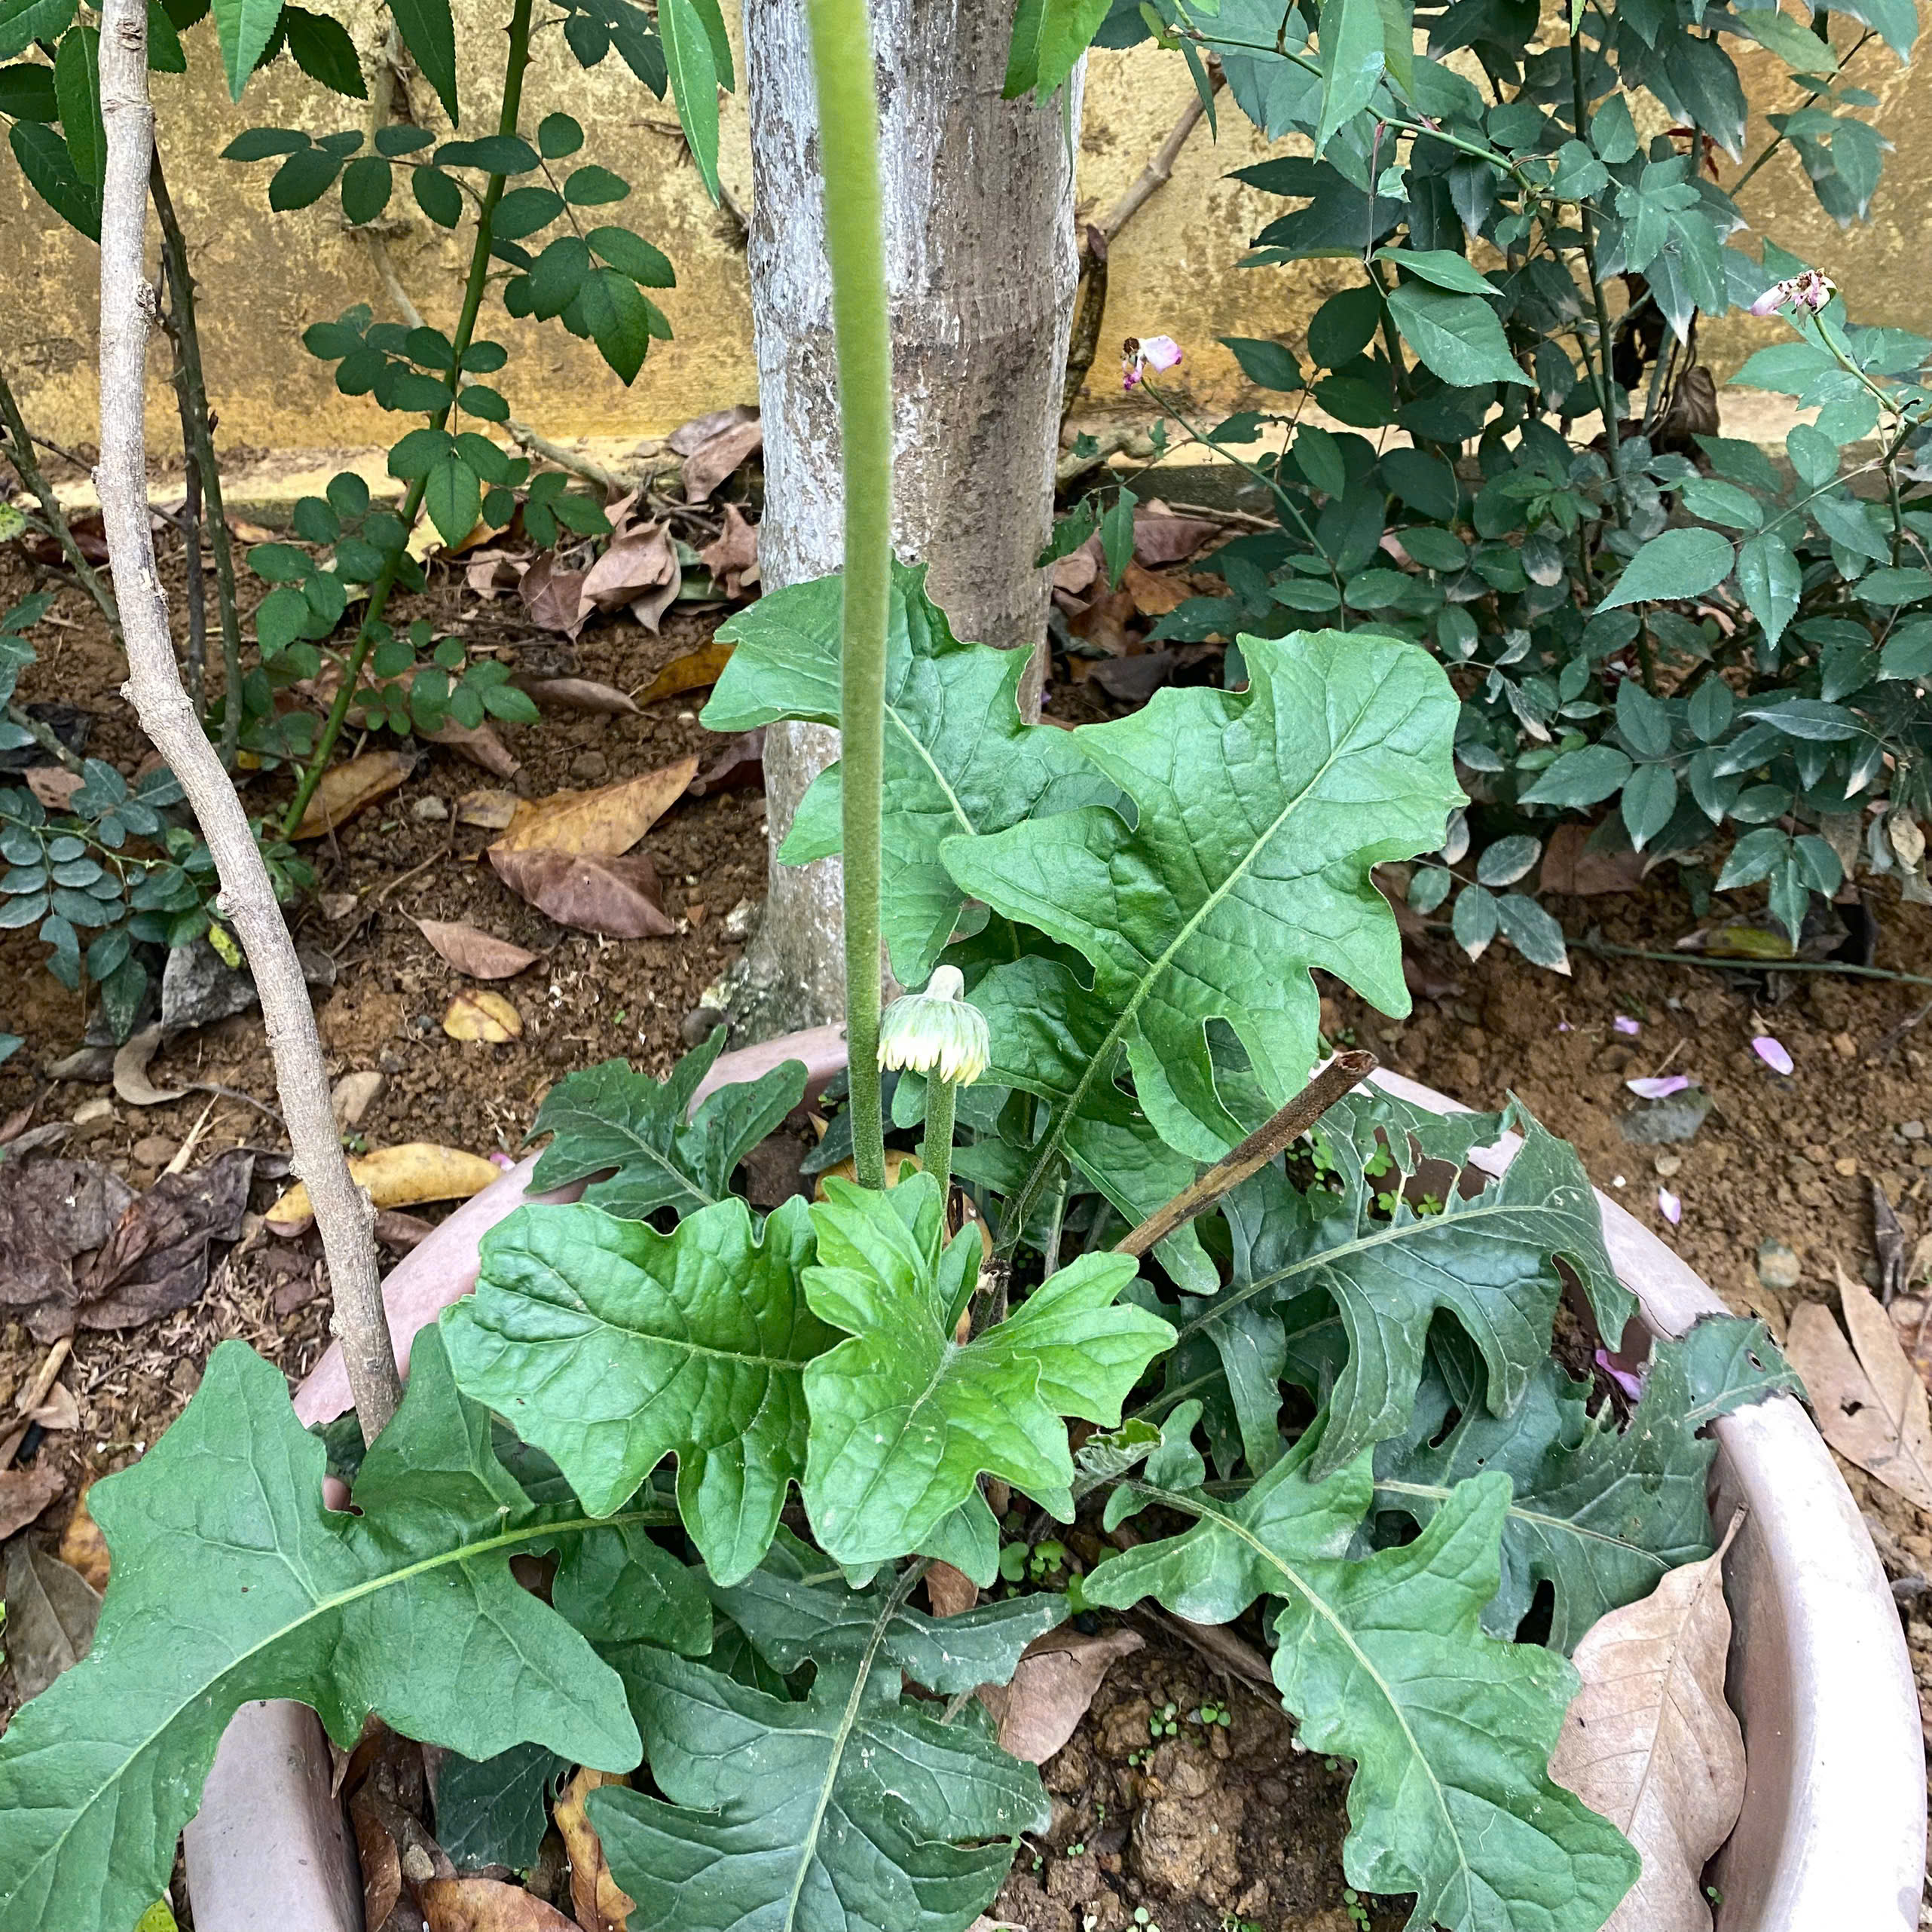hoa_huong_duong: (524, 28, 1668, 1932)
